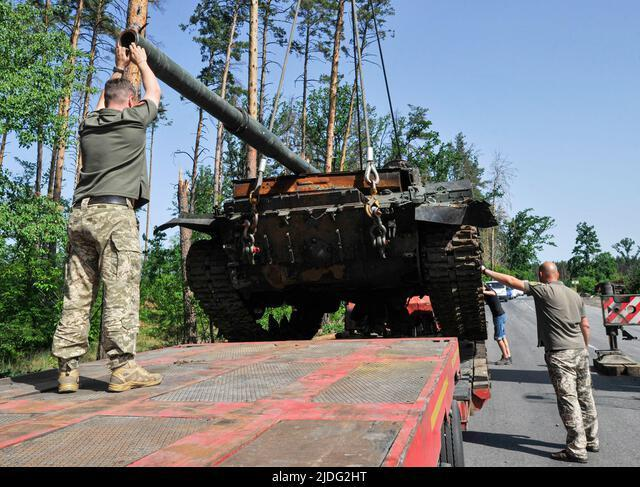person: (53, 42, 164, 394), (482, 260, 600, 464)
